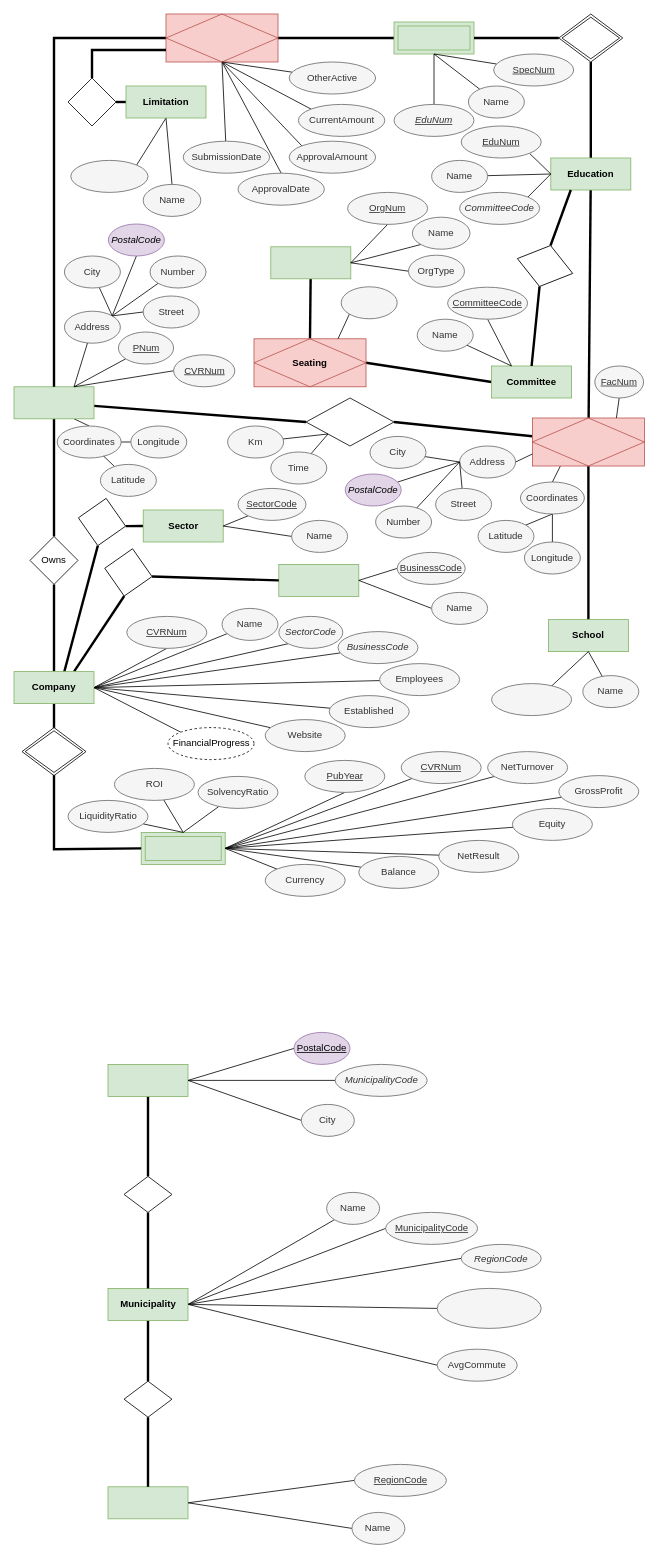
This 658x1558 diagram has some shape labels left out. Here are the shapes that lost their labels. From the top down, the box of each, then its label:
(165, 13, 278, 62): Approval
(393, 21, 474, 54): Specialization
(558, 13, 623, 62): Contains
(67, 77, 116, 126): Limits
(70, 160, 148, 192): LimitationCode
(270, 246, 351, 279): Organization
(511, 237, 578, 294): Oversees
(340, 286, 397, 319): Seats
(13, 386, 94, 419): Production unit
(305, 397, 394, 446): Distance
(532, 417, 644, 466): Facility
(73, 493, 130, 550): Is in
(100, 544, 156, 600): Is
(278, 564, 359, 596): Business
(491, 683, 572, 716): SchoolNum
(21, 727, 86, 776): Publishes
(140, 832, 225, 864): Financial report
(107, 1064, 188, 1096): Postal Area
(436, 1288, 541, 1328): YouthUnemployment
(107, 1486, 188, 1519): Region
